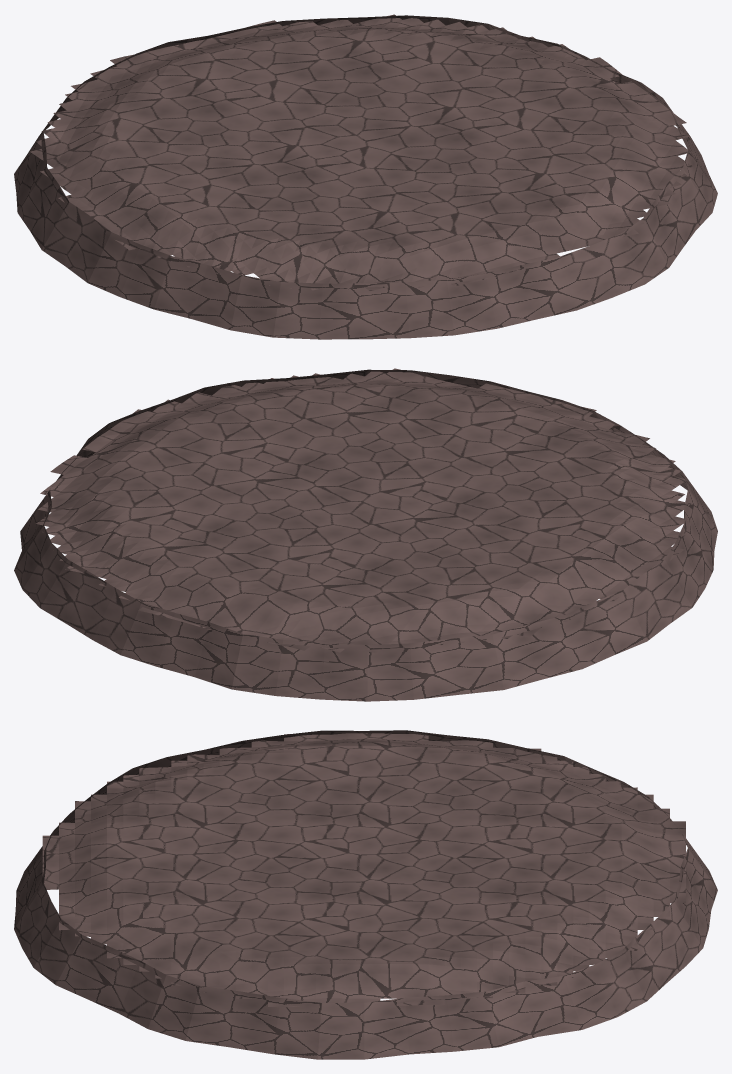
Rendered from Arena.obj.
3 renders of one model, top to bottom at view 1: azimuth 30°, elevation 25°; view 2: azimuth 150°, elevation 25°; view 3: azimuth 270°, elevation 25°, orthographic.
Parts seen in each view (by area): view 1: Arena; view 2: Arena; view 3: Arena.
Part boxes in pixels (x1=…): Arena: x1=14, y1=14, x2=717, y2=339; Arena: x1=14, y1=368, x2=717, y2=701; Arena: x1=14, y1=730, x2=717, y2=1059.
Size of the model in its own units: 34.89 by 3.03 by 34.83.
1 material, 1 textured.
